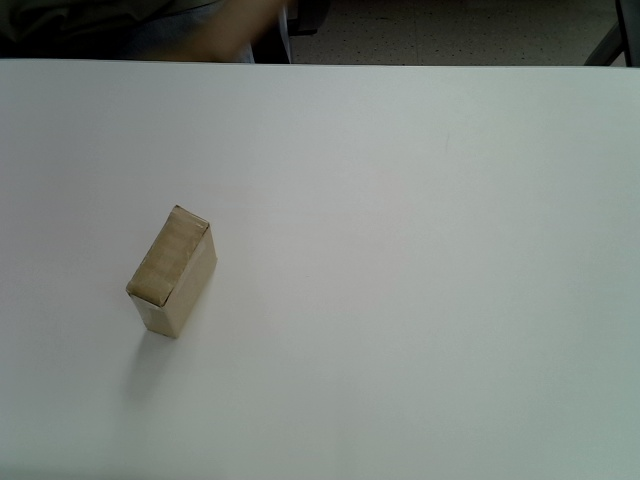normal: (126, 203, 220, 341)
